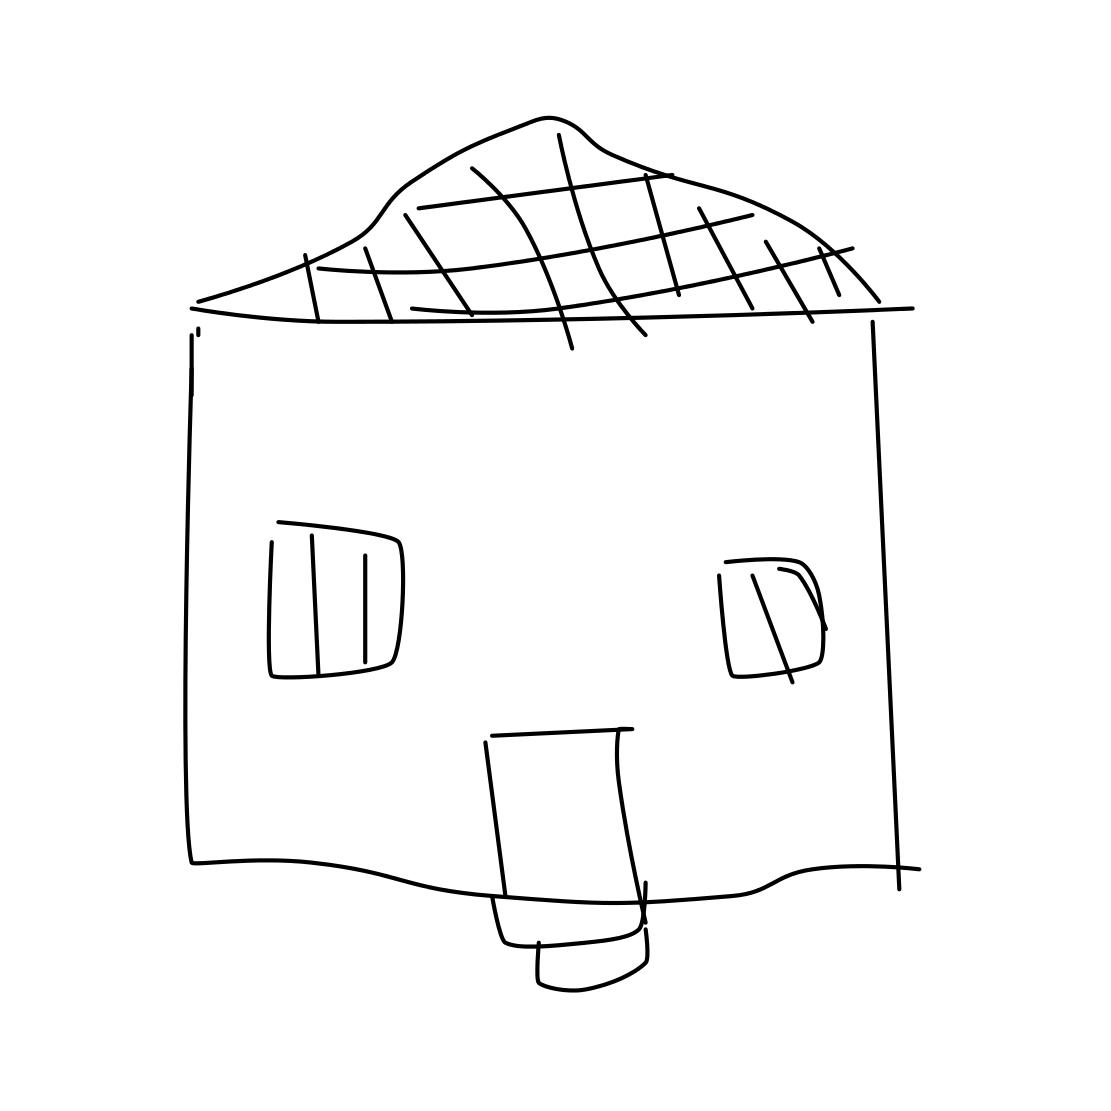door: (478, 716, 668, 997)
house: (178, 110, 920, 1000)
roof: (185, 115, 920, 330)
window: (261, 510, 412, 684), (710, 541, 838, 687)
